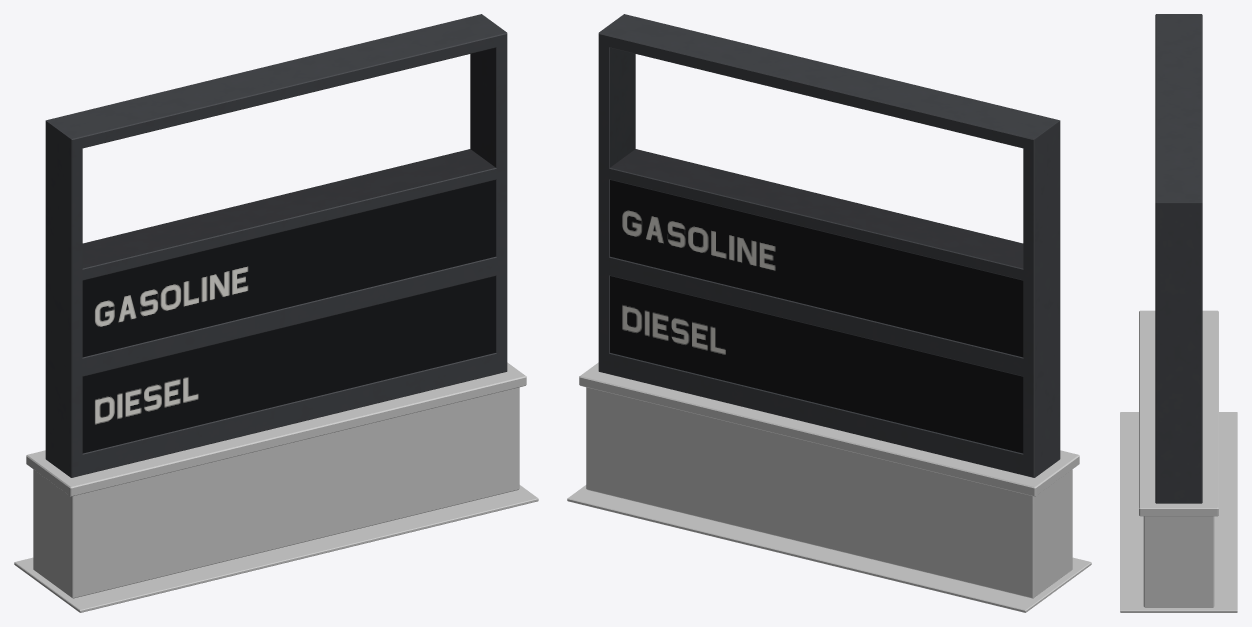
Rendered from body.obj.
3 views of the same model, side by side, from view 1: azimuth 30°, elevation 25°; view 2: azimuth 150°, elevation 25°; view 3: azimuth 270°, elevation 25° (orthographic). The views are drawn at different scales.
Visible parts, largest first — view 1: cabinet, base, row_1, row_0, cap, pad; view 2: cabinet, base, row_1, row_0, cap, pad; view 3: cabinet, pad, cap, base.
Boxes of the visible parts, x1,y1,x2,y2 form: cabinet: [45, 14, 507, 477]; base: [33, 387, 519, 598]; row_1: [82, 276, 495, 453]; row_0: [82, 180, 495, 357]; cap: [26, 362, 526, 496]; pad: [14, 485, 538, 612]; cabinet: [598, 14, 1060, 477]; base: [586, 387, 1072, 598]; row_1: [610, 276, 1023, 453]; row_0: [610, 180, 1023, 357]; cap: [579, 362, 1079, 496]; pad: [567, 485, 1091, 612]; cabinet: [1155, 14, 1202, 503]; pad: [1120, 412, 1237, 612]; cap: [1139, 310, 1218, 516]; base: [1143, 516, 1214, 607].
Size of the model in its own units: 4 by 3.8 by 0.9996.
